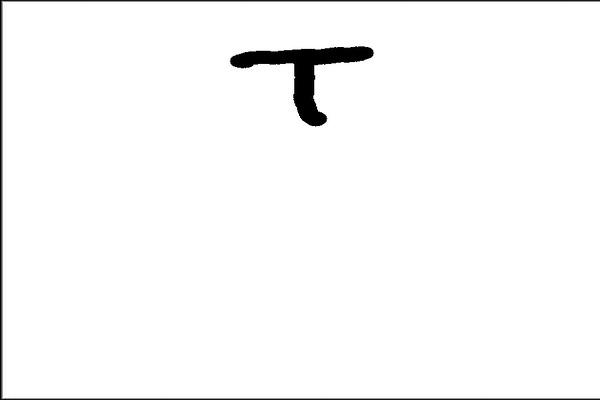T: (223, 41, 381, 131)
